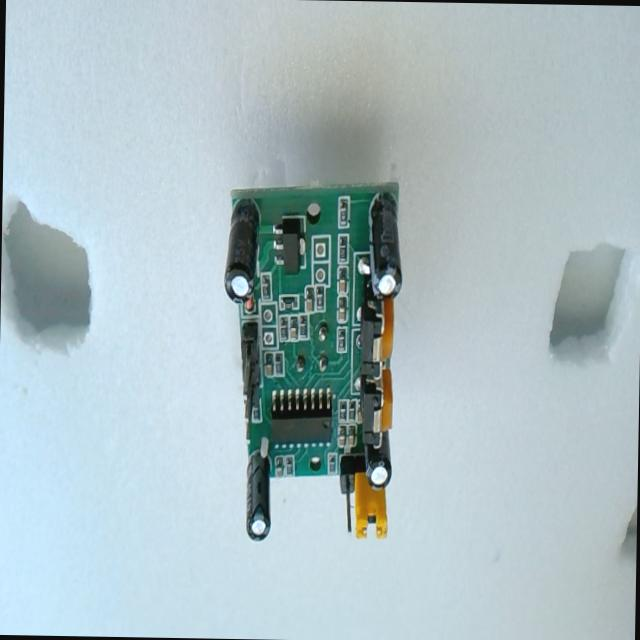Electrolytic capacitor: (366, 192, 404, 300), (222, 196, 260, 303), (244, 447, 272, 543), (363, 428, 392, 490)
IC: (269, 387, 334, 446)
pinheader: (238, 321, 262, 432)
